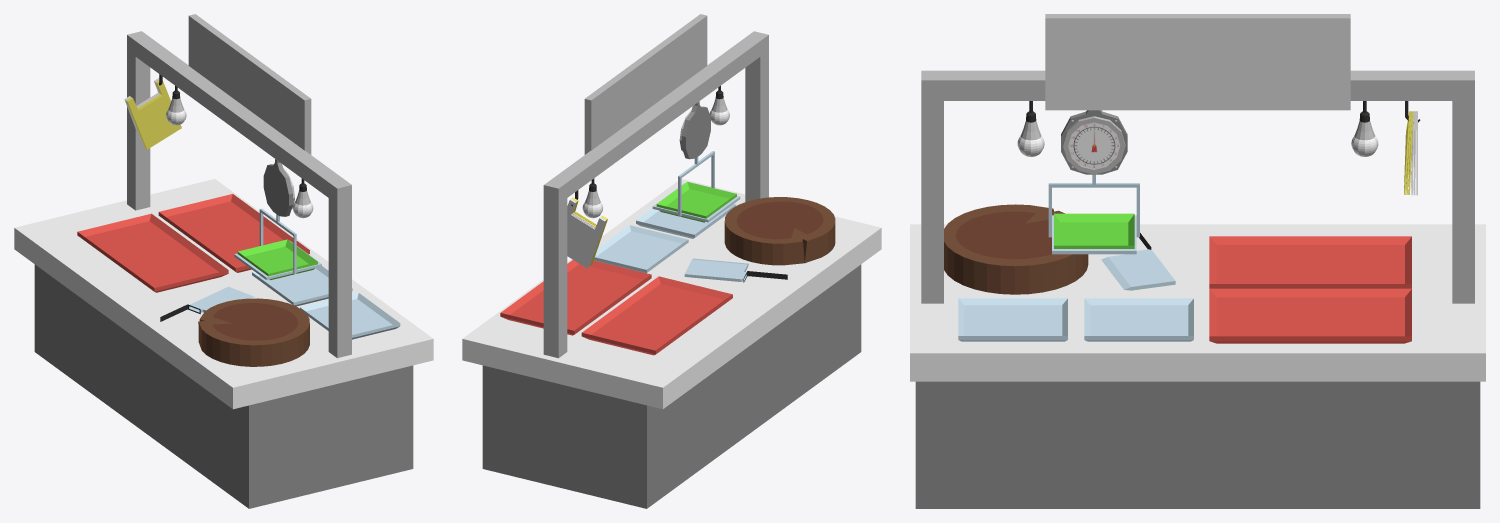
The model's file is seafoodstall.fbx.
3 renders of one model, left to right at view 1: azimuth 30°, elevation 25°; view 2: azimuth 150°, elevation 25°; view 3: azimuth 270°, elevation 25°, orthographic. The views are drawn at different scales.
Visible parts, largest first — view 1: seafoodstall, stallname, choppingboard, tray1, tray2, scale, plastic, smalltray2, smalltray3, smalltray1, light, knife; view 2: seafoodstall, stallname, choppingboard, tray1, tray2, smalltray1, scale, smalltray3, plastic, knife, smalltray2, light; view 3: seafoodstall, stallname, tray2, tray1, choppingboard, scale, smalltray1, smalltray2, smalltray3, knife, light, plastic.
Part boxes in pixels (box(x1,y1,x2,y2)): seafoodstall: box(14, 31, 433, 508); stallname: box(188, 14, 311, 154); choppingboard: box(198, 298, 309, 366); tray1: box(77, 213, 228, 292); tray2: box(158, 194, 309, 272); scale: box(234, 159, 321, 279); plastic: box(124, 78, 181, 149); smalltray2: box(300, 293, 400, 339); smalltray3: box(237, 239, 317, 280); smalltray1: box(252, 266, 352, 306); light: box(166, 86, 313, 218); knife: box(160, 286, 256, 321); seafoodstall: box(462, 31, 881, 508); stallname: box(584, 14, 707, 154); choppingboard: box(724, 197, 835, 265); tray1: box(581, 276, 732, 355); tray2: box(500, 260, 651, 335); smalltray1: box(594, 225, 688, 273); scale: box(652, 101, 740, 222); smalltray3: box(656, 181, 736, 222); plastic: box(567, 197, 607, 267); knife: box(684, 258, 787, 282); smalltray2: box(636, 204, 736, 238); light: box(582, 86, 729, 218); seafoodstall: box(910, 70, 1485, 508); stallname: box(1045, 14, 1350, 110); tray2: box(1209, 288, 1411, 343); tray1: box(1209, 236, 1411, 288); choppingboard: box(944, 204, 1088, 294); scale: box(1048, 110, 1139, 254); smalltray1: box(1084, 298, 1193, 341); smalltray2: box(958, 298, 1067, 341); smalltray3: box(1054, 213, 1134, 248); knife: box(1101, 233, 1175, 290); light: box(1017, 101, 1378, 156); plastic: box(1404, 111, 1417, 195).
Bounding box in the file's own units: 2.46 × 4.06 × 4.64.
Materials: 14 (1 with a texture image).
